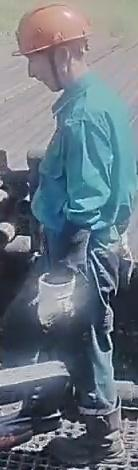gloves: (26, 270, 83, 339)
helmet: (9, 3, 95, 59)
vest: (39, 78, 130, 232)
